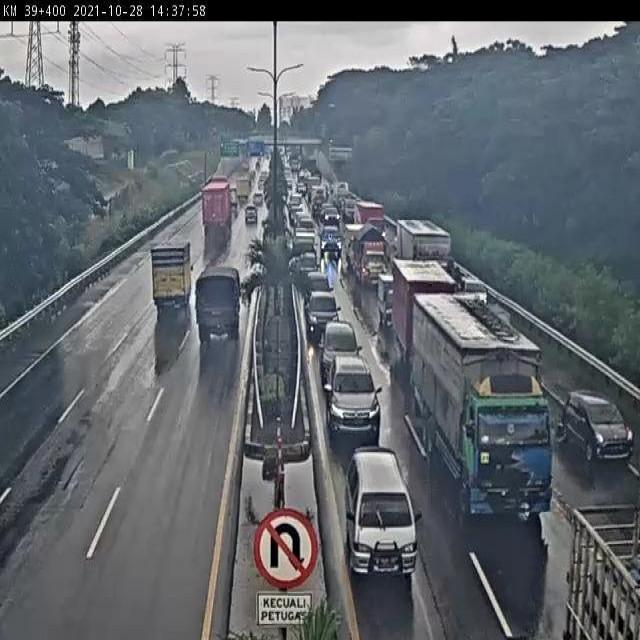car: (563, 392, 632, 461), (318, 221, 343, 252)
truck-l-: (413, 296, 552, 511), (398, 218, 454, 290)
truck-m-: (194, 265, 241, 340), (152, 241, 191, 316), (352, 224, 389, 281)
